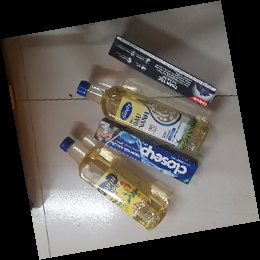CloseUp Tuyet: (93, 119, 199, 186)
Colgate Than: (107, 34, 220, 110)
Happy Soya: (59, 135, 170, 230)
Simply: (76, 79, 209, 156)
